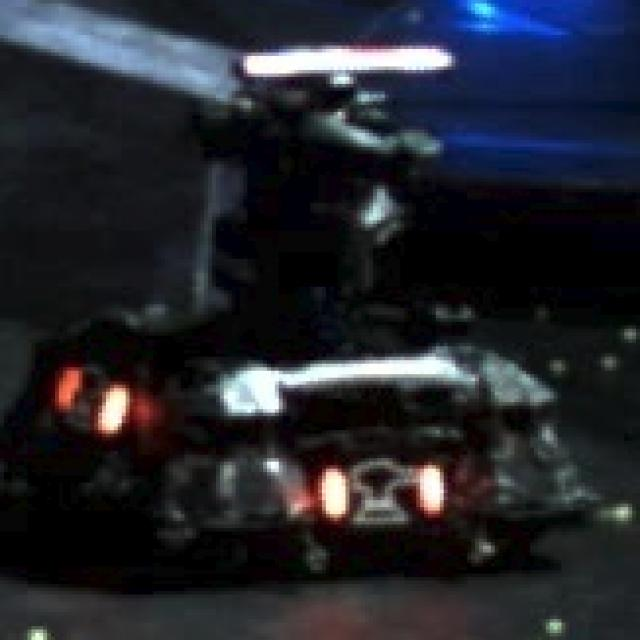Rs: (322, 462, 444, 524), (55, 360, 130, 441)
